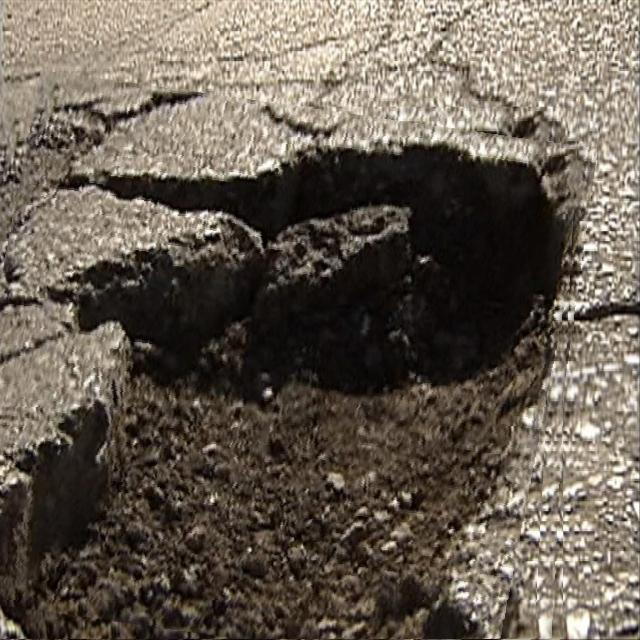Pothole: (0, 88, 580, 640)
